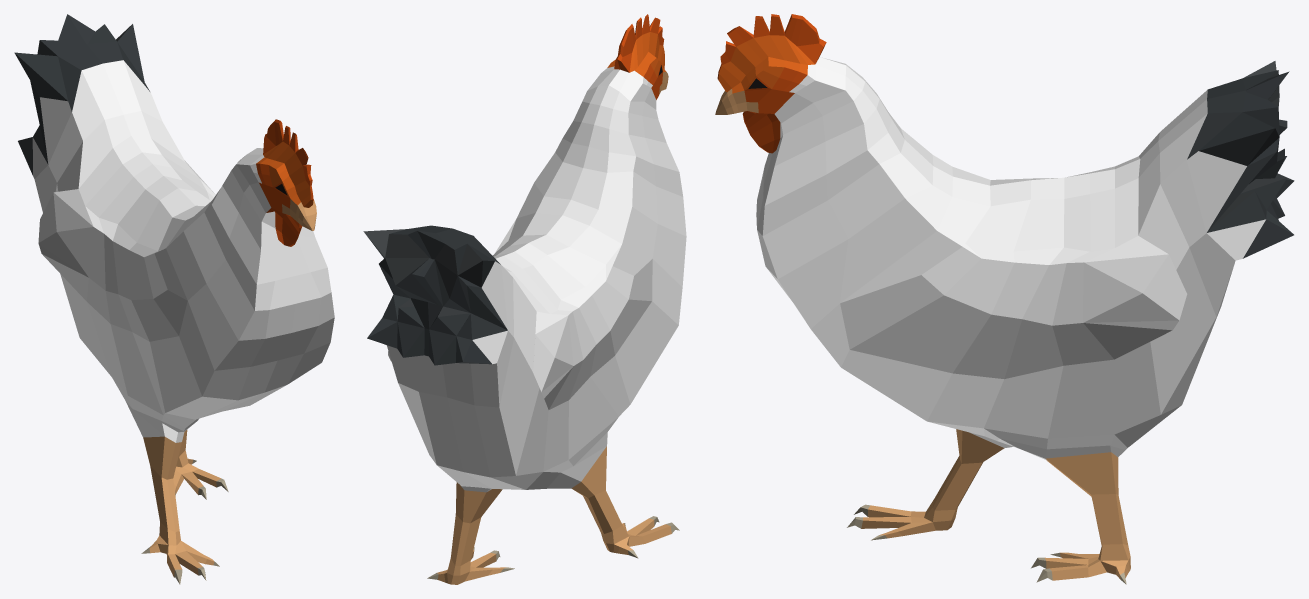
File: chicken.glb
The picture shows the model from 3 angles, left to right: view 1: azimuth 30°, elevation 25°; view 2: azimuth 150°, elevation 25°; view 3: azimuth 270°, elevation 25°; orthographic projection. The views are drawn at different scales.
Parts seen in each view (by area): view 1: Object_4; view 2: Object_4; view 3: Object_4.
Boxes of the visible parts, x1,y1,x2,y2 form: Object_4: (14, 14, 334, 584); Object_4: (363, 14, 686, 584); Object_4: (715, 14, 1294, 584).
Bounding box in the file's own units: 0.4302 × 1.26 × 1.21.
1 material, 1 textured.
